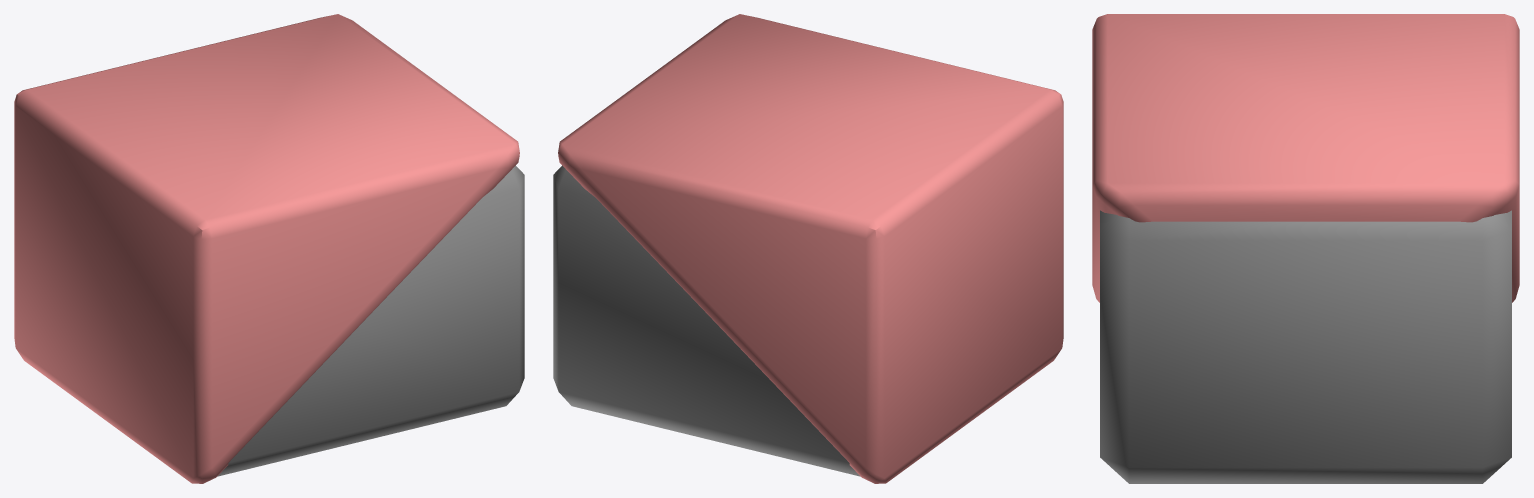
File: Lamps.fbx
The picture shows the model from 3 angles, left to right: view 1: azimuth 30°, elevation 25°; view 2: azimuth 150°, elevation 25°; view 3: azimuth 270°, elevation 25°; orthographic projection. The views are drawn at different scales.
Visible parts, largest first — view 1: SM_Lamp01; view 2: SM_Lamp01; view 3: SM_Lamp01.
Part boxes in pixels (x1=…): SM_Lamp01: x1=14, y1=14, x2=524, y2=483; SM_Lamp01: x1=553, y1=14, x2=1063, y2=483; SM_Lamp01: x1=1092, y1=14, x2=1519, y2=483.
Size of the model in its own units: 58.46 by 44.11 by 56.8.
